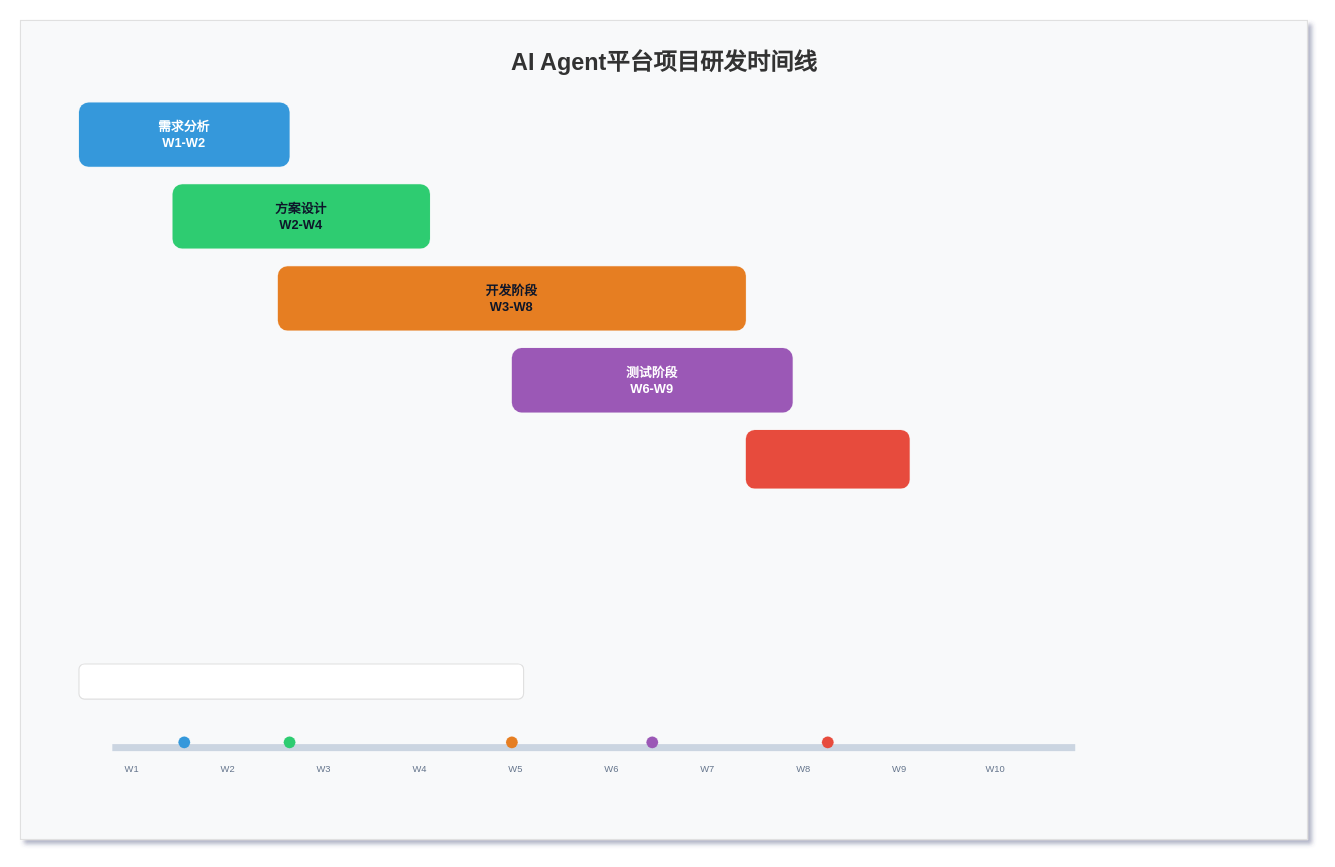
The diagram is 1335 pixels wide and 867 high, and some of its shapes have lost their labels. The shapes that lost their labels are listed below. From the top down, each one's centre as x and y in pixels, then its label:
At (x=827, y=458): "上线部署 W9-W10".
At (x=301, y=681): "图例：蓝=需求 绿=设计 橙=开发 紫=测试 红=上线".
